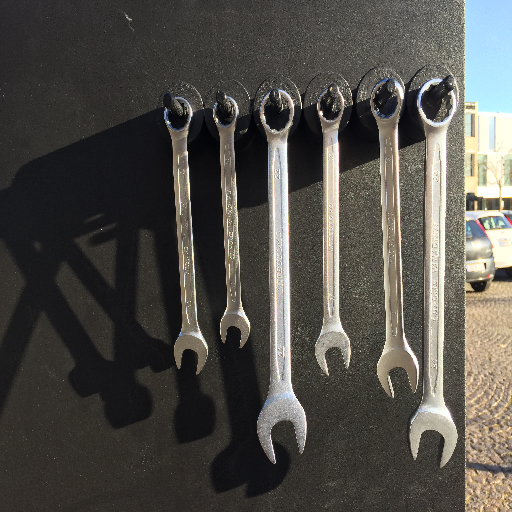bottom: (255, 395, 309, 465), (408, 401, 460, 468), (375, 346, 420, 400), (313, 326, 352, 376), (171, 331, 210, 377), (217, 308, 252, 349)
top: (414, 79, 457, 132), (258, 88, 296, 136), (369, 77, 405, 124), (315, 86, 347, 129), (162, 96, 196, 134), (210, 95, 240, 130)
